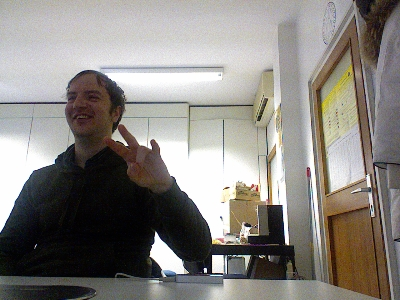观音: (102, 123, 172, 190)
